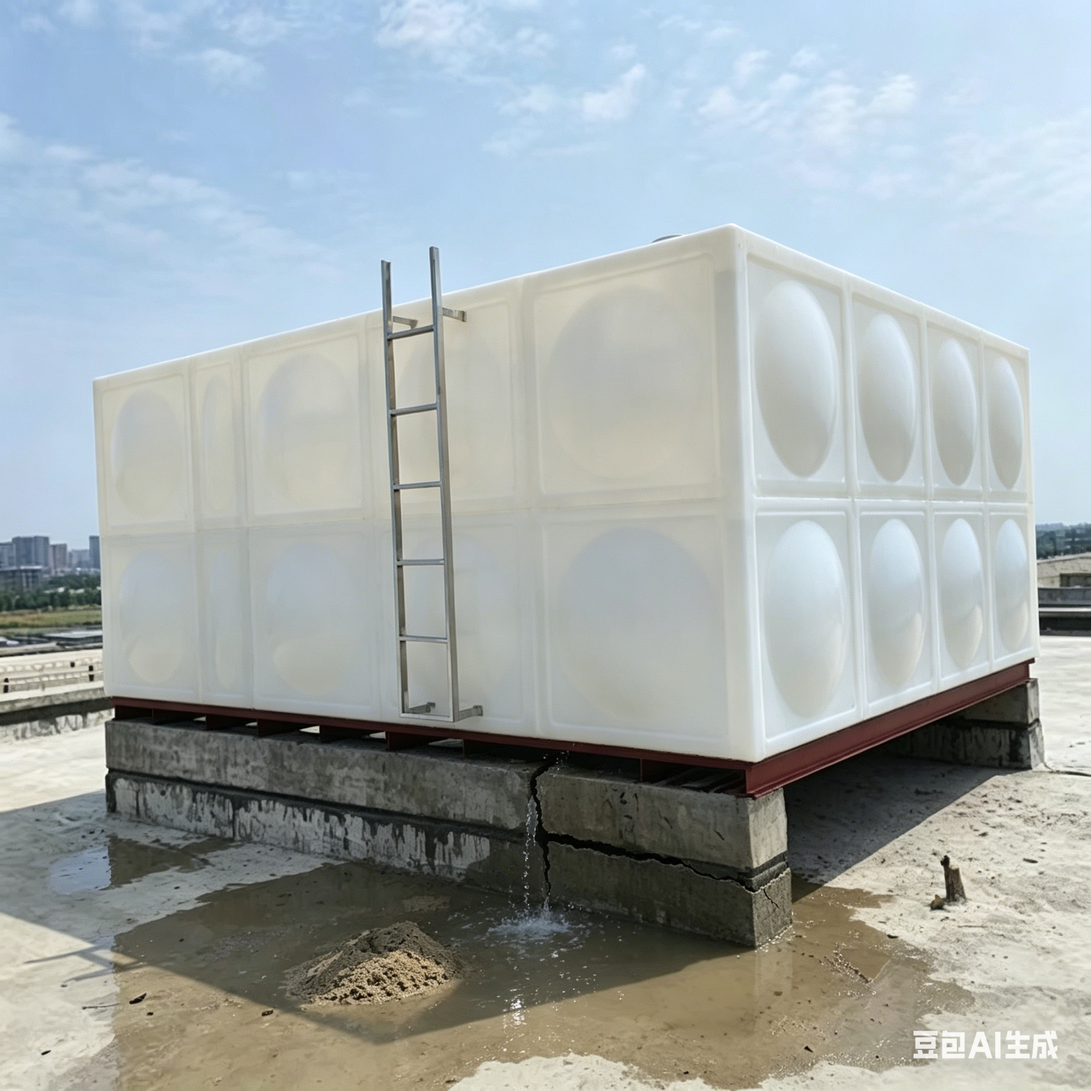Leakage: (132, 919, 941, 1081), (235, 834, 459, 911), (473, 748, 568, 913), (48, 824, 176, 894)
